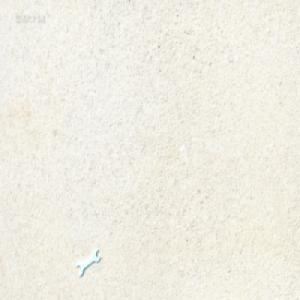Wrench: (76, 248, 100, 277)
